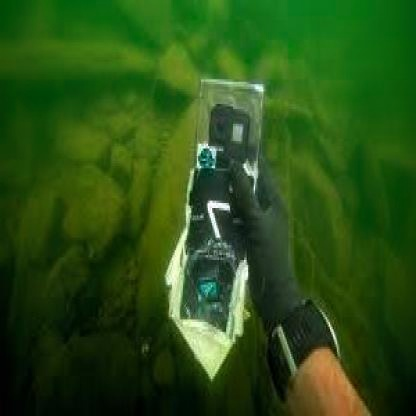electronics: (206, 99, 252, 173)
